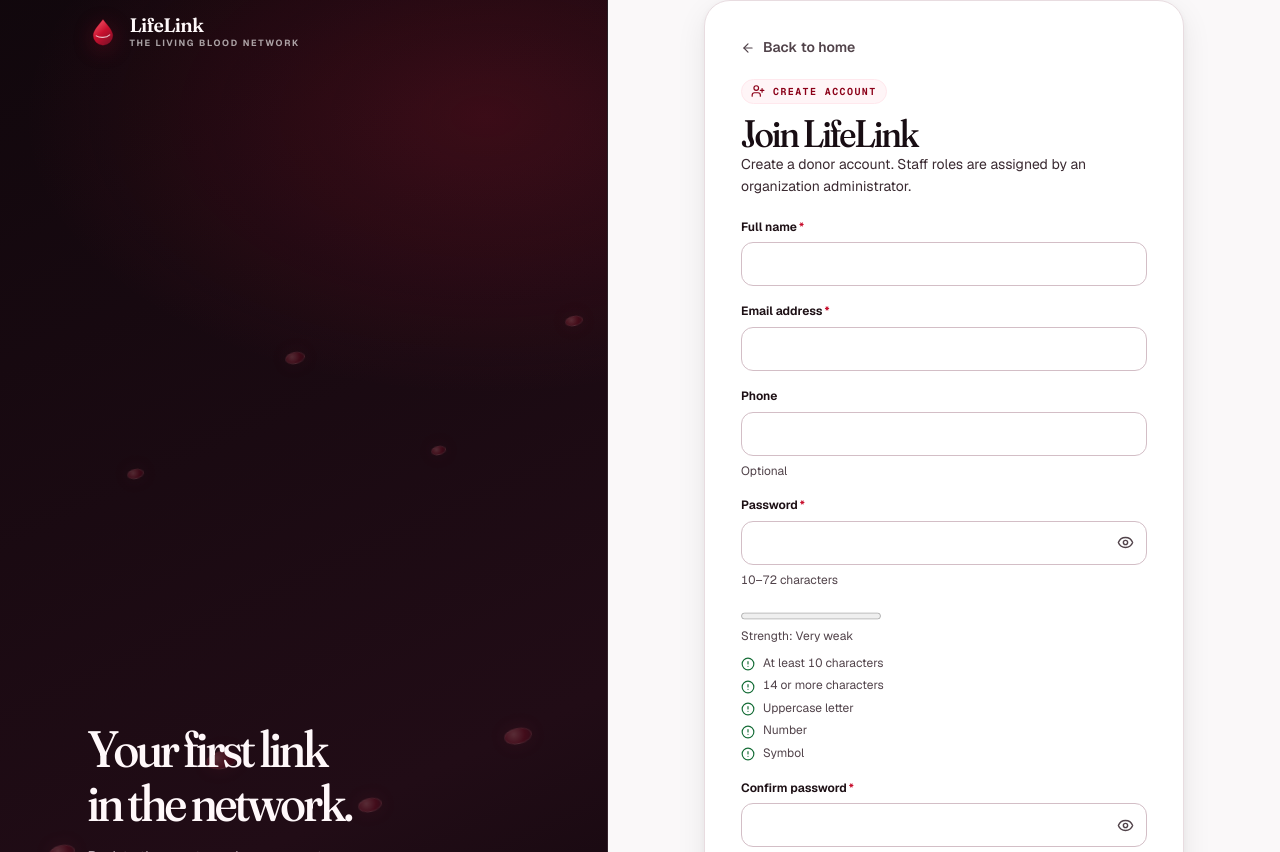
Test case: RegisterPage accessible fields › describes password inputs with their hints and errors and toggles them by keyboard
The width and height of the screenshot is (1280, 852).
Later steps or results of the test are not shown.
Expected: the label "Password*" is shown, [741, 497, 805, 513]
Expected: the label "Confirm password*" is shown, [741, 780, 854, 796]
Type "different" into the password field labelled "Confirm password*".
click(944, 825); type("different")  # box [741, 803, 1147, 847]
(page scrolled)
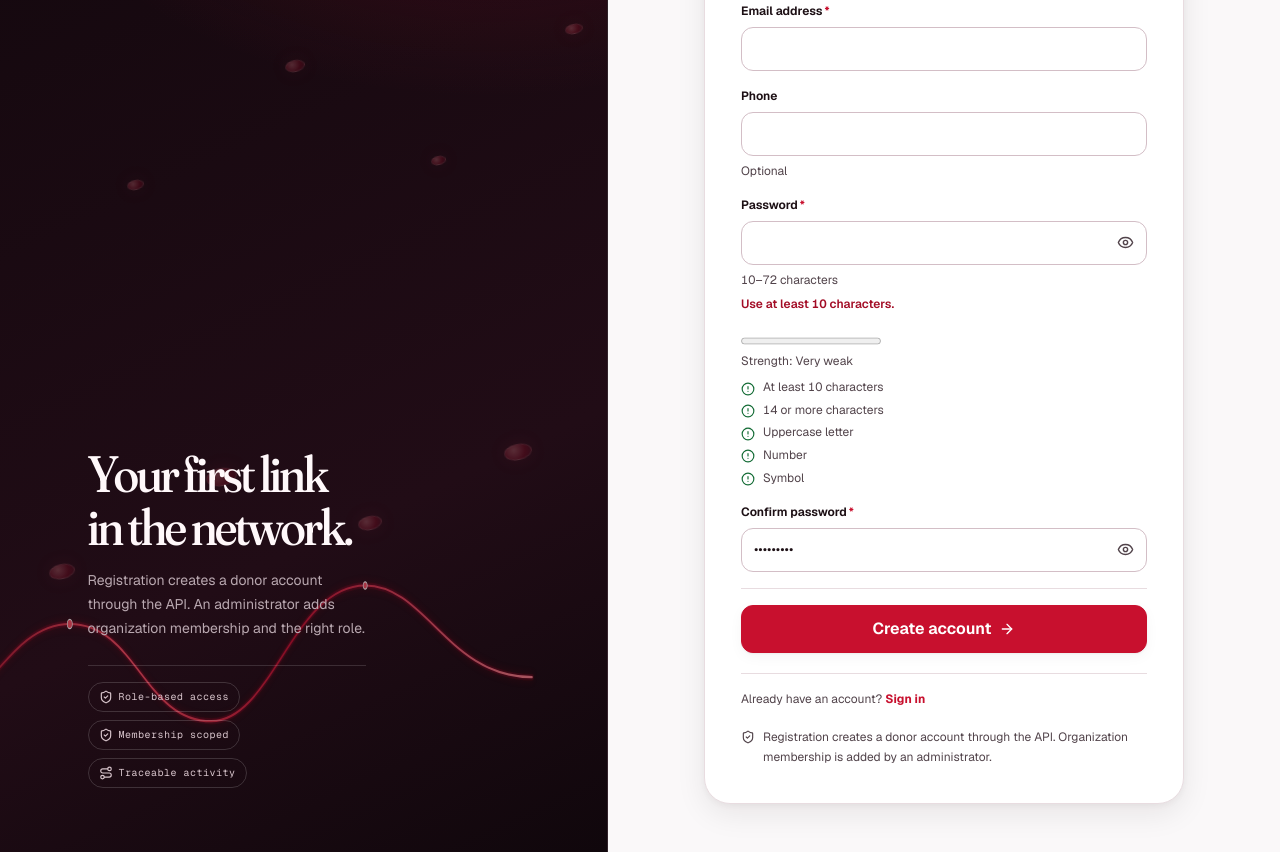
Leave the password field labelled "Confirm password*", box [741, 528, 1147, 572]
(page scrolled)
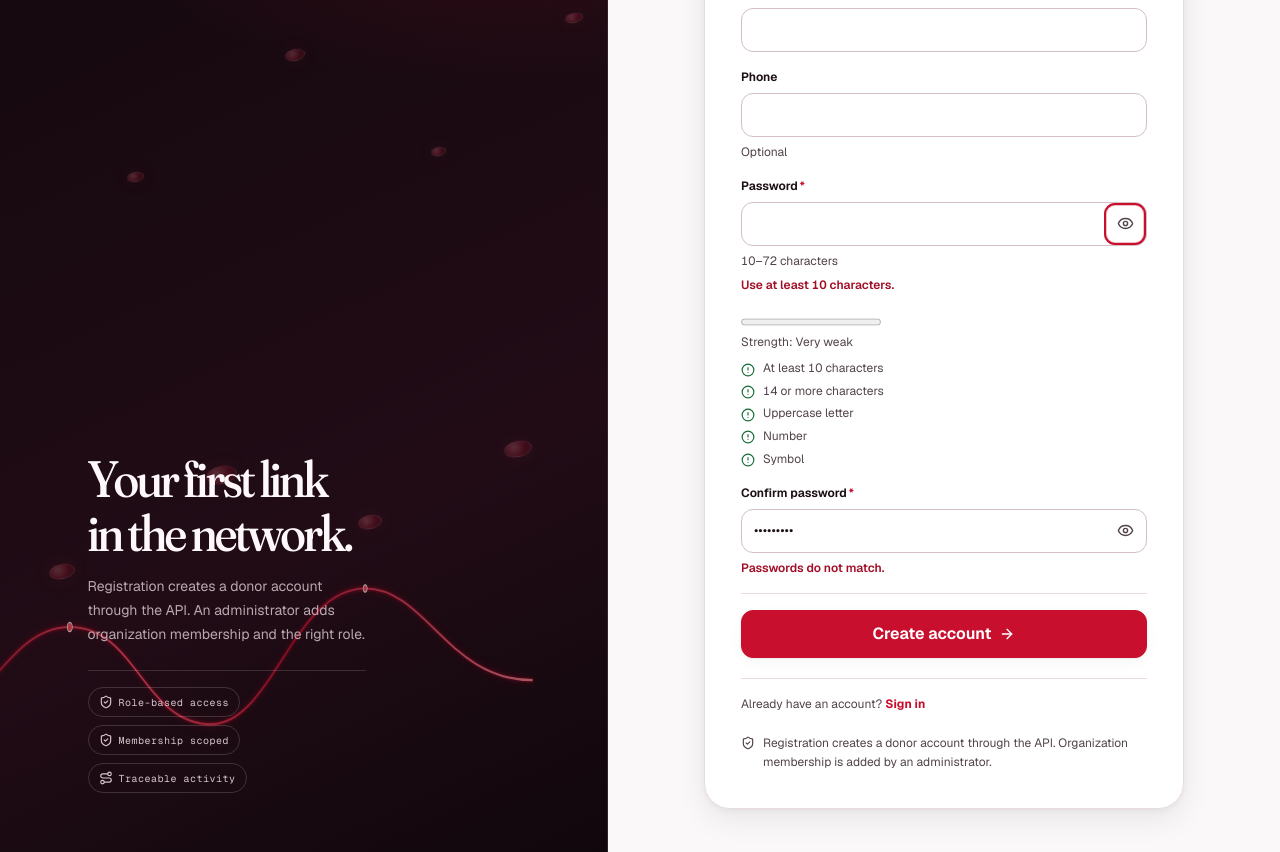
Result: the password field labelled "Password*" is marked as invalid at [741, 202, 1147, 246]
Result: the password field labelled "Confirm password*" is marked as invalid at [741, 509, 1147, 553]
